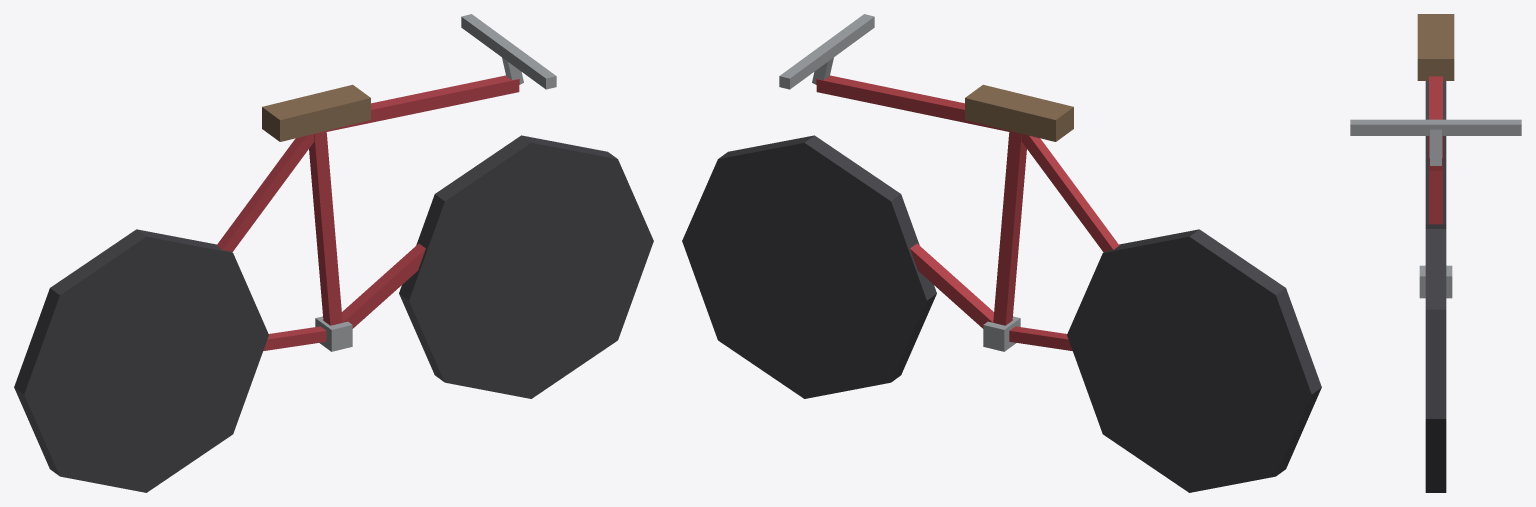
Rendered from bike.glb.
3 renders of one model, left to right at view 1: azimuth 30°, elevation 25°; view 2: azimuth 150°, elevation 25°; view 3: azimuth 270°, elevation 25°, orthographic.
Parts seen in each view (by area): view 1: geometry_0; view 2: geometry_0; view 3: geometry_0.
Part boxes in pixels (bbox=[...]): geometry_0: bbox=[14, 14, 653, 492]; geometry_0: bbox=[682, 14, 1321, 492]; geometry_0: bbox=[1350, 14, 1521, 492].
Bounding box in the file's own units: 1.8 × 0.965 × 0.42.
